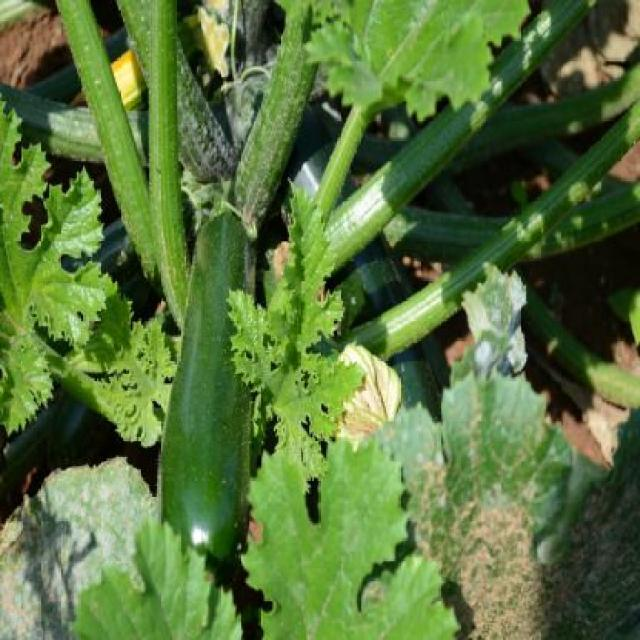Zucchini: (152, 220, 270, 632)
